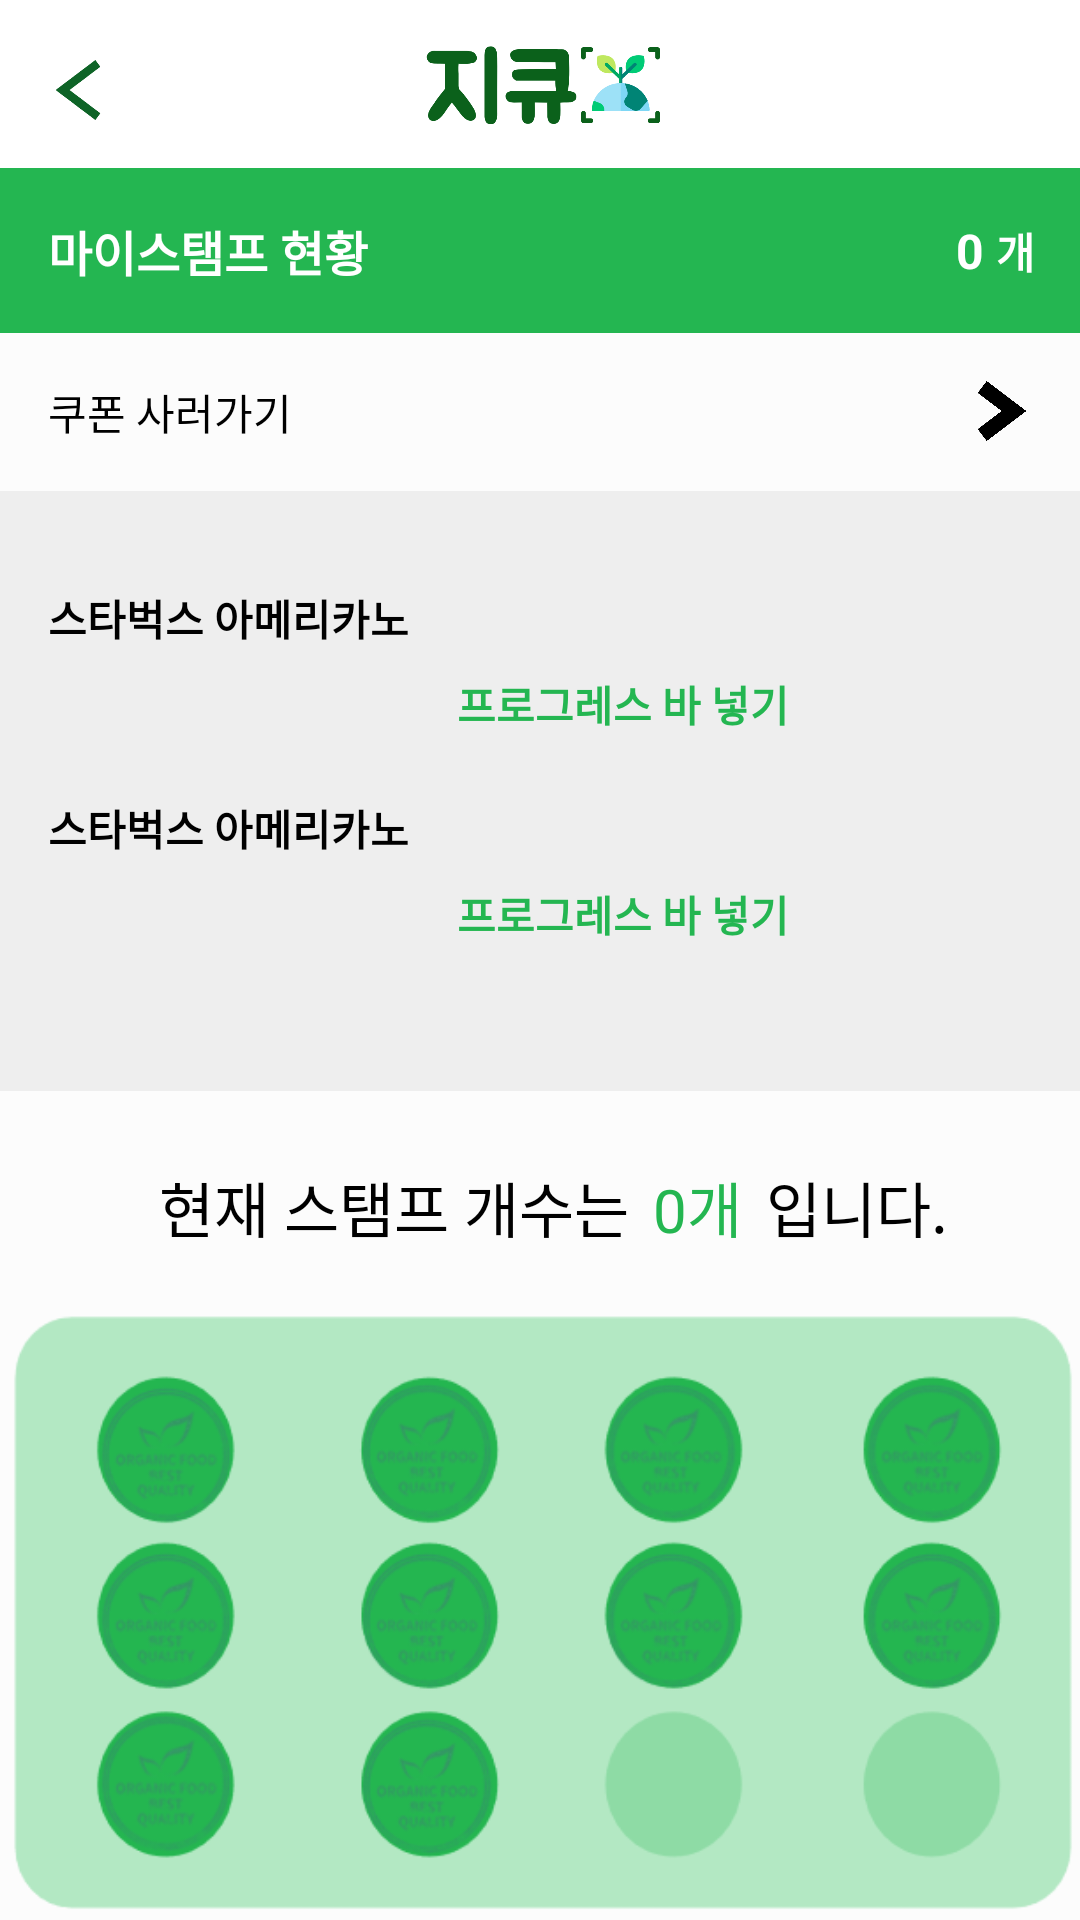

Icon bounding boxes for this 1080w x 1920h phone screenshot, format (x1, y1, x2, y2):
arrow: (978, 381, 1026, 441)
